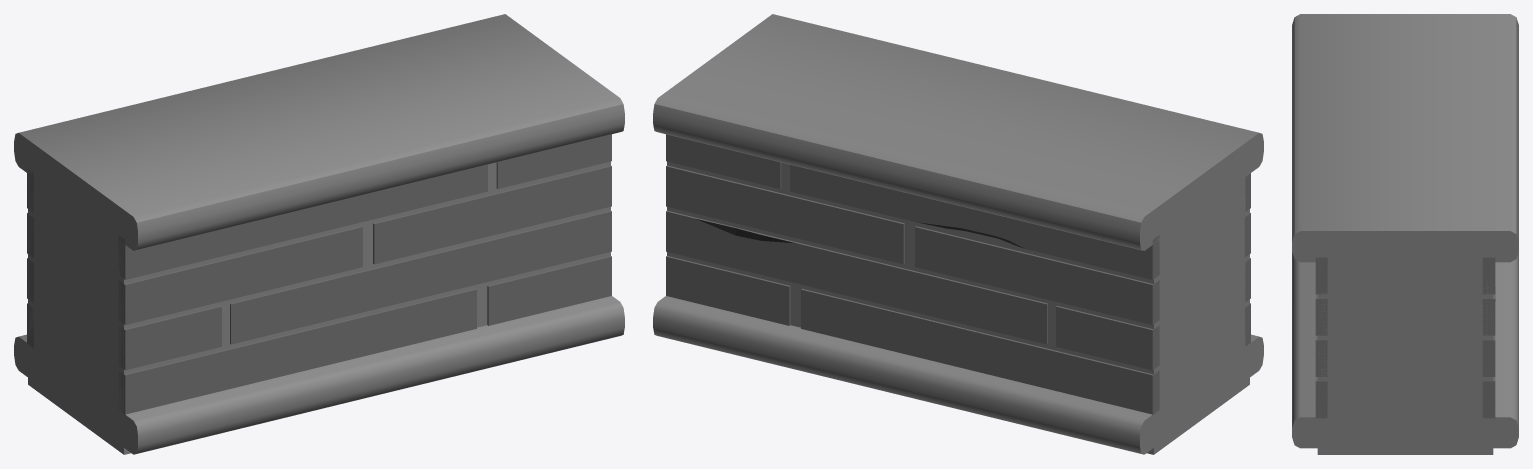
Rendered from space_counter_straight.glb.
3 views of the same model, side by side, from view 1: azimuth 30°, elevation 25°; view 2: azimuth 150°, elevation 25°; view 3: azimuth 270°, elevation 25° (orthographic). The views are drawn at different scales.
Visible parts, largest first — view 1: Environment_Counter_Straight; view 2: Environment_Counter_Straight; view 3: Environment_Counter_Straight.
Part boxes in pixels (bbox=[...]): Environment_Counter_Straight: bbox=[14, 14, 624, 454]; Environment_Counter_Straight: bbox=[653, 14, 1263, 454]; Environment_Counter_Straight: bbox=[1292, 14, 1518, 454].
Bounding box in the file's own units: 4 × 1.92 × 1.77.
1 material, 1 textured.
